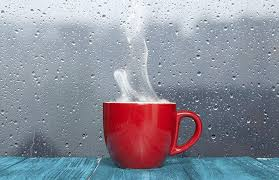cup: (100, 101, 212, 170)
